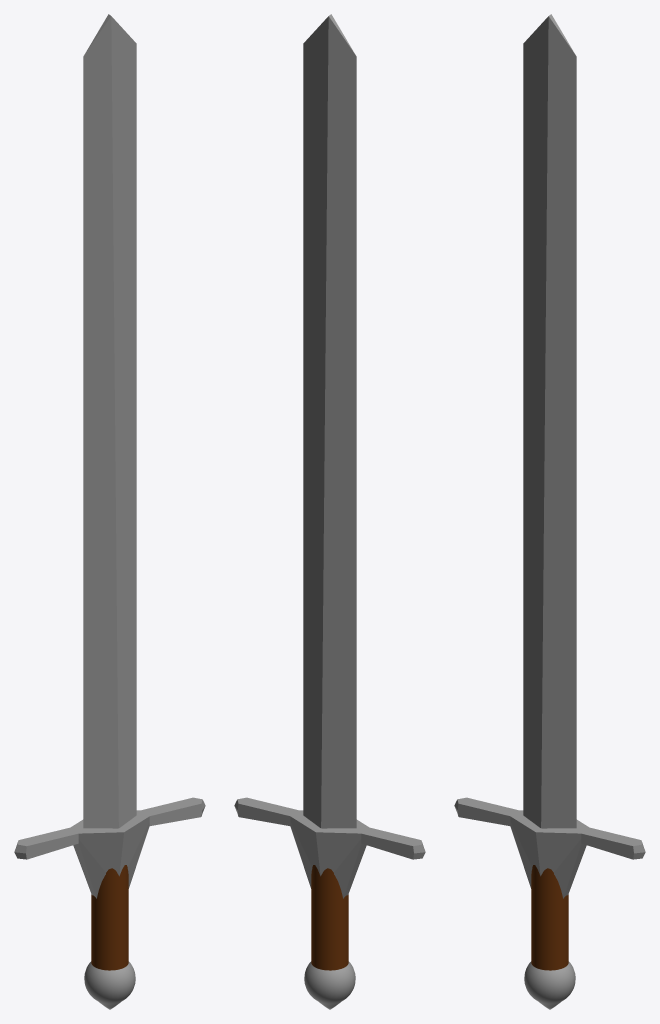
File: Sword.fbx
3 views of the same model, side by side, from view 1: azimuth 30°, elevation 25°; view 2: azimuth 150°, elevation 25°; view 3: azimuth 330°, elevation 25° (orthographic).
Visible parts, largest first — view 1: Blade, Hilt, Handle, Pomel; view 2: Blade, Hilt, Handle, Pomel; view 3: Blade, Hilt, Handle, Pomel.
Part boxes in pixels (x1,y1,x2,y2): Blade: (83,14,136,828); Hilt: (14,797,205,898); Handle: (91,865,128,970); Pomel: (84,961,135,1009); Blade: (303,14,356,828); Hilt: (234,797,425,898); Handle: (311,865,348,970); Pomel: (304,961,355,1009); Blade: (523,14,576,828); Hilt: (454,797,645,898); Handle: (531,865,568,970); Pomel: (524,961,575,1009).
Size of the model in its own units: 334 by 1659 by 85.66.
